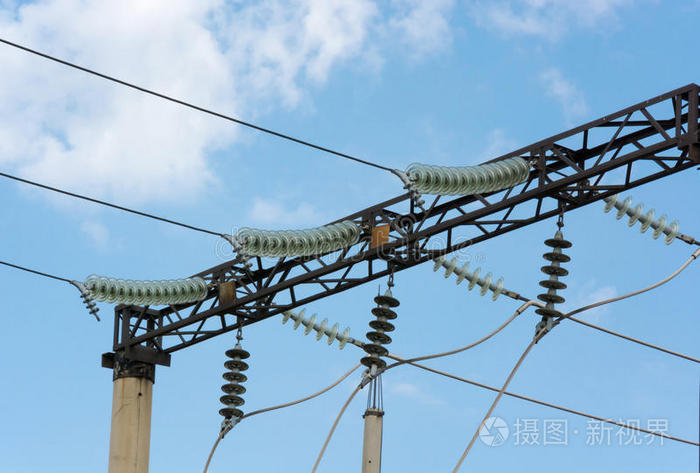insulator: (237, 218, 361, 256), (405, 158, 533, 194), (87, 272, 208, 302), (606, 194, 681, 242), (431, 256, 506, 301), (537, 238, 575, 317), (282, 307, 349, 349), (362, 295, 399, 369), (218, 348, 251, 418)
